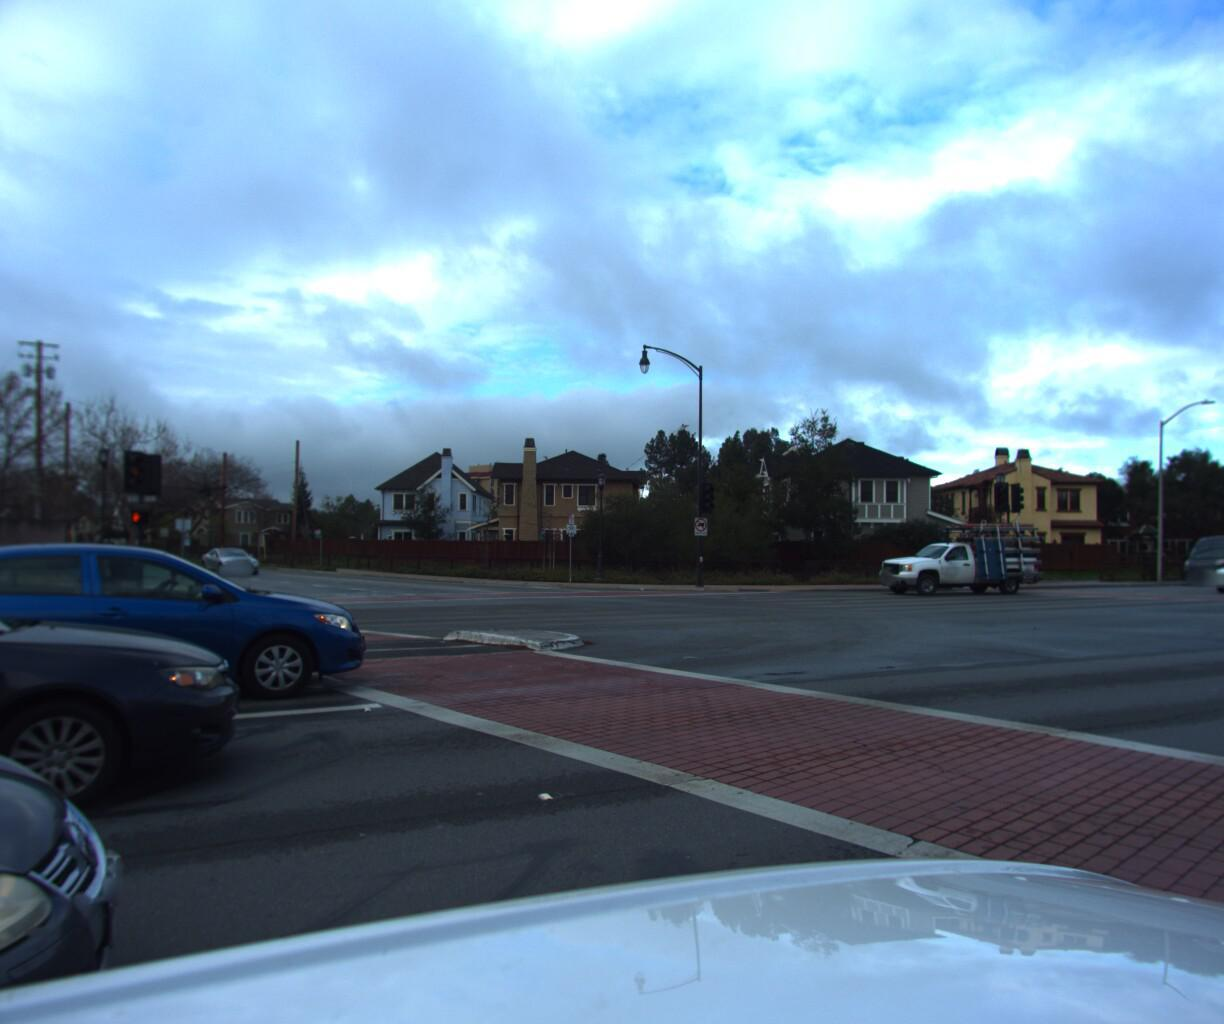car: (0, 549, 260, 941), (0, 536, 387, 745), (864, 515, 1055, 594), (1166, 528, 1224, 582), (197, 546, 262, 574), (1196, 547, 1224, 592)
